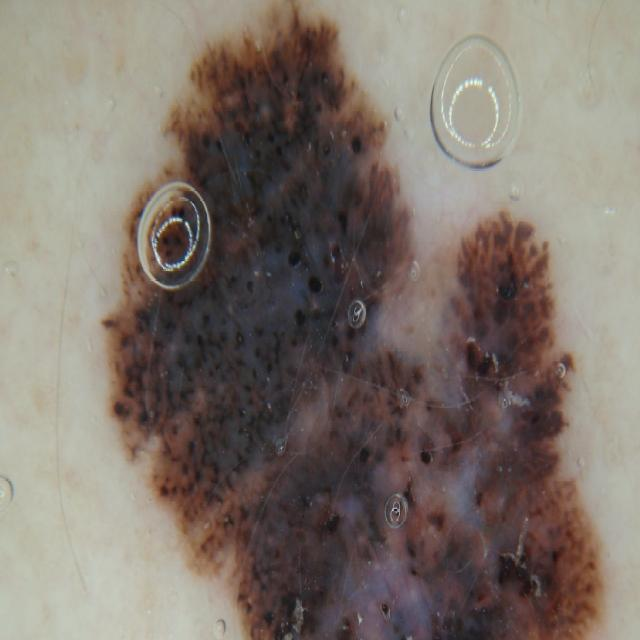Melanoma: (45, 46, 633, 640)
